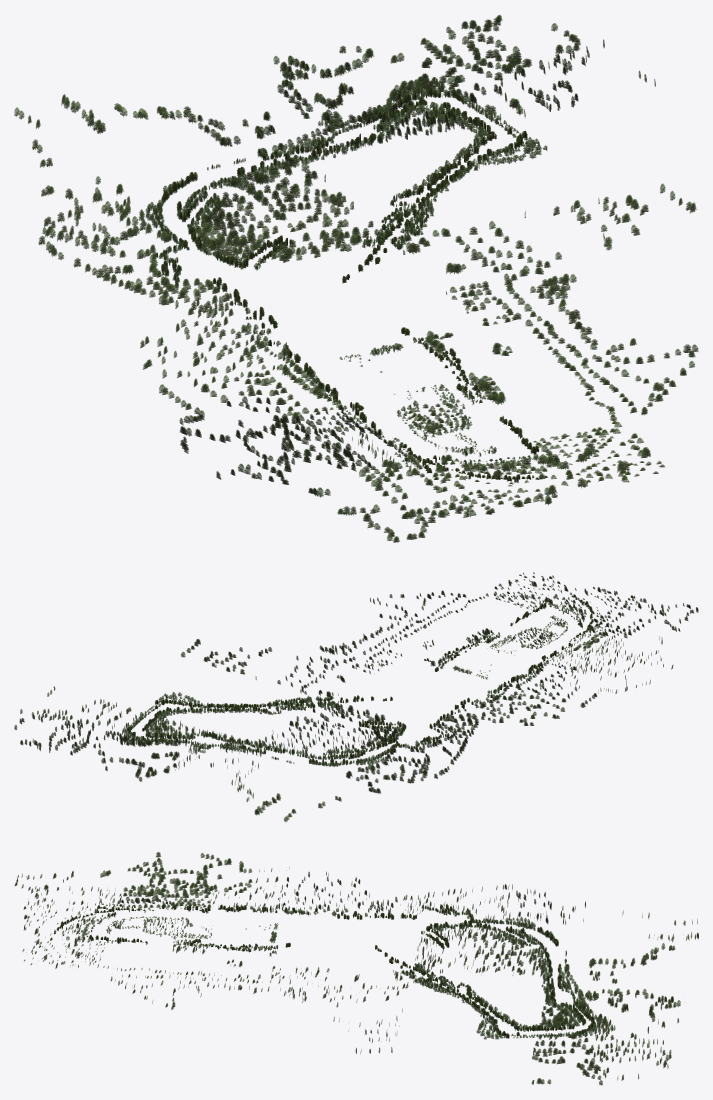
Rendered from trees.glb.
3 views of the same model, one above another, from view 1: azimuth 30°, elevation 25°; view 2: azimuth 150°, elevation 25°; view 3: azimuth 270°, elevation 25° (orthographic). The views are drawn at different scales.
Visible parts, largest first — view 1: TREE_LOD_0_TYPE_1.007, TREE_LOD_0_TYPE_1.004, TREE_LOD_0_TYPE_1.011, TREE_LOD_0_TYPE_1.016, TREE_LOD_0_TYPE_1.010, TREE_LOD_0_TYPE_1.013, TREE_LOD_0_TYPE_1.005, TREE_LOD_0_TYPE_1.002, TREE_LOD_0_TYPE_1.003, TREE_LOD_0_TYPE_2.012, TREE_LOD_0_TYPE_1.014, TREE_LOD_0_TYPE_2.007 (+11 smaller); view 2: TREE_LOD_0_TYPE_1.007, TREE_LOD_0_TYPE_1.003, TREE_LOD_0_TYPE_1.011, TREE_LOD_0_TYPE_1.016, TREE_LOD_0_TYPE_1.004, TREE_LOD_0_TYPE_1.002, TREE_LOD_0_TYPE_2.012, TREE_LOD_0_TYPE_2.007, TREE_LOD_0_TYPE_1.010, TREE_LOD_0_TYPE_1.013, TREE_LOD_0_TYPE_2.011, TREE_LOD_0_TYPE_1.005 (+8 smaller); view 3: TREE_LOD_0_TYPE_1.004, TREE_LOD_0_TYPE_1.016, TREE_LOD_0_TYPE_1.011, TREE_LOD_0_TYPE_1.007, TREE_LOD_0_TYPE_2.007, TREE_LOD_0_TYPE_2.012, TREE_LOD_0_TYPE_1.005, TREE_LOD_0_TYPE_2.011, TREE_LOD_0_TYPE_1.010, TREE_LOD_0_TYPE_1.003, TREE_LOD_0_TYPE_2.009, TREE_LOD_0_TYPE_3.012 (+9 smaller).
Part boxes in pixels (x1,y1,x2,y2): TREE_LOD_0_TYPE_1.007: [195, 157, 373, 262]; TREE_LOD_0_TYPE_1.004: [159, 359, 387, 478]; TREE_LOD_0_TYPE_1.011: [263, 46, 464, 151]; TREE_LOD_0_TYPE_1.016: [420, 15, 655, 121]; TREE_LOD_0_TYPE_1.010: [401, 428, 639, 516]; TREE_LOD_0_TYPE_1.013: [403, 205, 611, 325]; TREE_LOD_0_TYPE_1.005: [217, 440, 469, 542]; TREE_LOD_0_TYPE_1.002: [38, 191, 170, 290]; TREE_LOD_0_TYPE_1.003: [134, 278, 290, 378]; TREE_LOD_0_TYPE_2.012: [305, 121, 517, 242]; TREE_LOD_0_TYPE_1.014: [488, 307, 698, 404]; TREE_LOD_0_TYPE_2.007: [145, 155, 384, 270]; TREE_LOD_0_TYPE_1.007: [258, 704, 398, 754]; TREE_LOD_0_TYPE_1.003: [433, 685, 564, 743]; TREE_LOD_0_TYPE_1.011: [98, 717, 239, 781]; TREE_LOD_0_TYPE_1.016: [14, 686, 142, 755]; TREE_LOD_0_TYPE_1.004: [509, 640, 672, 707]; TREE_LOD_0_TYPE_1.002: [351, 735, 466, 783]; TREE_LOD_0_TYPE_2.012: [157, 695, 322, 746]; TREE_LOD_0_TYPE_2.007: [252, 701, 401, 766]; TREE_LOD_0_TYPE_1.010: [500, 575, 642, 635]; TREE_LOD_0_TYPE_1.013: [233, 639, 401, 696]; TREE_LOD_0_TYPE_2.011: [126, 716, 244, 753]; TREE_LOD_0_TYPE_1.005: [579, 598, 698, 668]; TREE_LOD_0_TYPE_1.004: [147, 852, 289, 910]; TREE_LOD_0_TYPE_1.016: [531, 1030, 671, 1085]; TREE_LOD_0_TYPE_1.011: [539, 975, 680, 1034]; TREE_LOD_0_TYPE_1.007: [415, 924, 544, 976]; TREE_LOD_0_TYPE_2.007: [413, 918, 554, 977]; TREE_LOD_0_TYPE_2.012: [411, 970, 549, 1030]; TREE_LOD_0_TYPE_1.005: [14, 852, 158, 908]; TREE_LOD_0_TYPE_2.011: [538, 976, 600, 1032]; TREE_LOD_0_TYPE_1.010: [22, 901, 132, 960]; TREE_LOD_0_TYPE_1.003: [288, 871, 429, 915]; TREE_LOD_0_TYPE_2.009: [142, 907, 278, 954]; TREE_LOD_0_TYPE_3.012: [411, 970, 549, 1031].
Size of the model in its own units: 2432 by 65.1 by 3072.
Materials: 3 (3 with a texture image).
